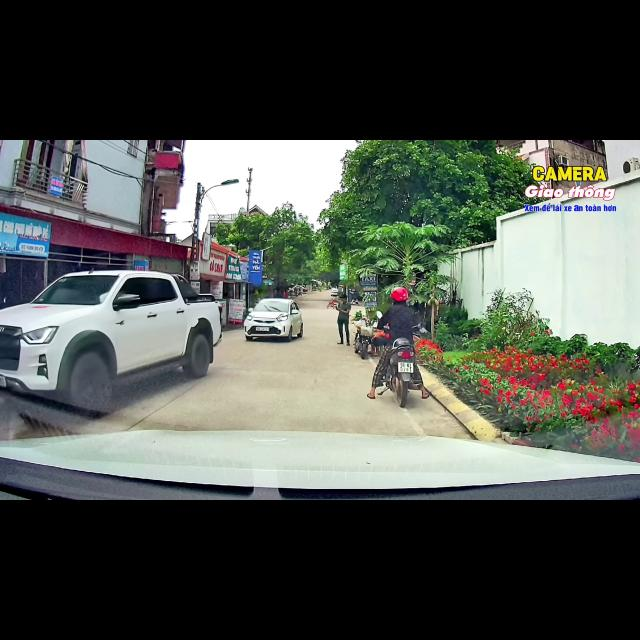bicycle: (326, 302, 336, 308)
car: (0, 271, 222, 411), (243, 298, 303, 340), (331, 288, 339, 296)
motorcycle: (378, 338, 419, 407), (354, 319, 377, 359)
